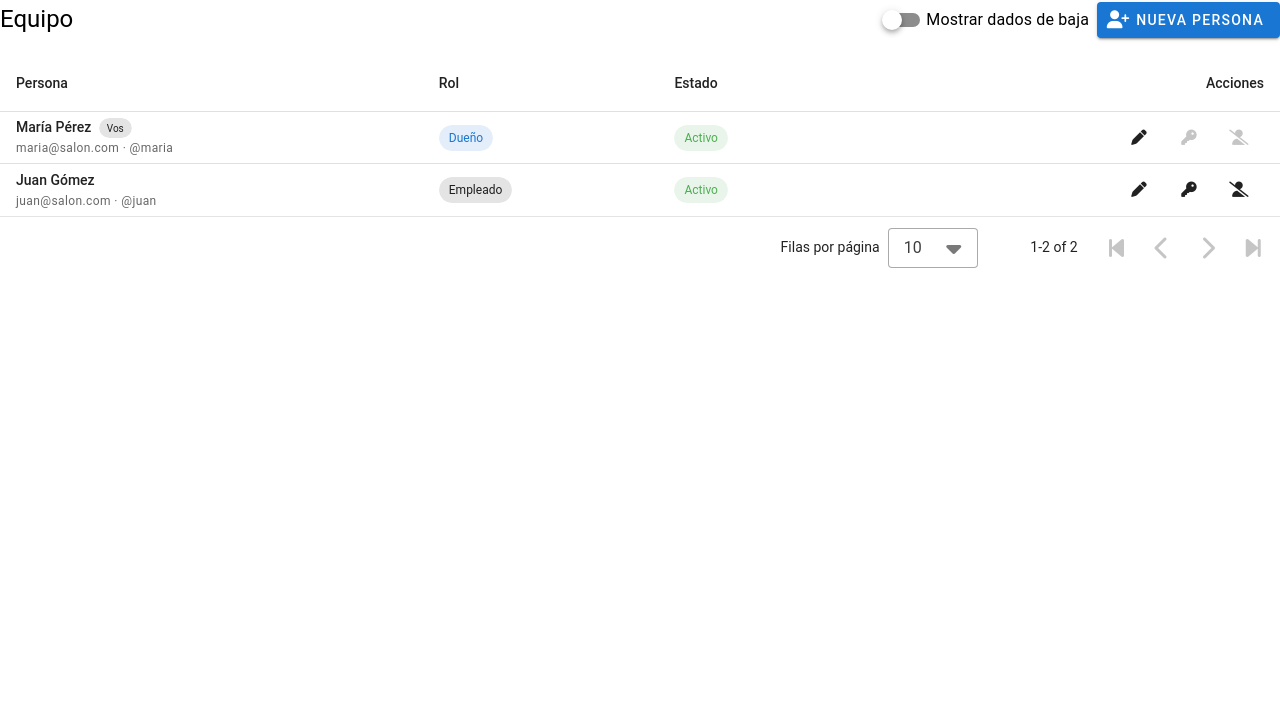
EquipoView › edición › un error de la API (p. ej. «debe conservar al menos un dueño») se muestra en el diálogo
Click the button named "Editar a Juan Gómez".
click(1139, 190)  # box 1114,176 -> 1164,204
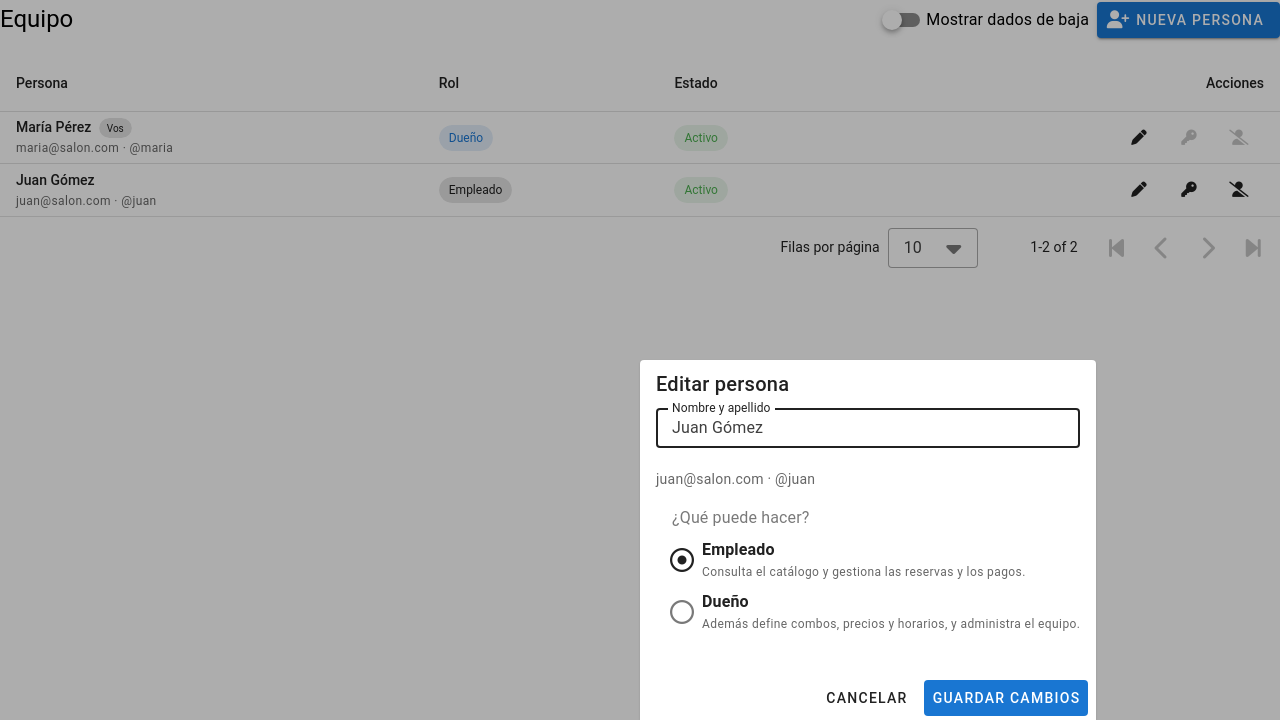
Replace the text in the field labelled "Nombre y apellido" with "Otro nombre" at {"x": 868, "y": 428}, box 656,408 -> 1080,448
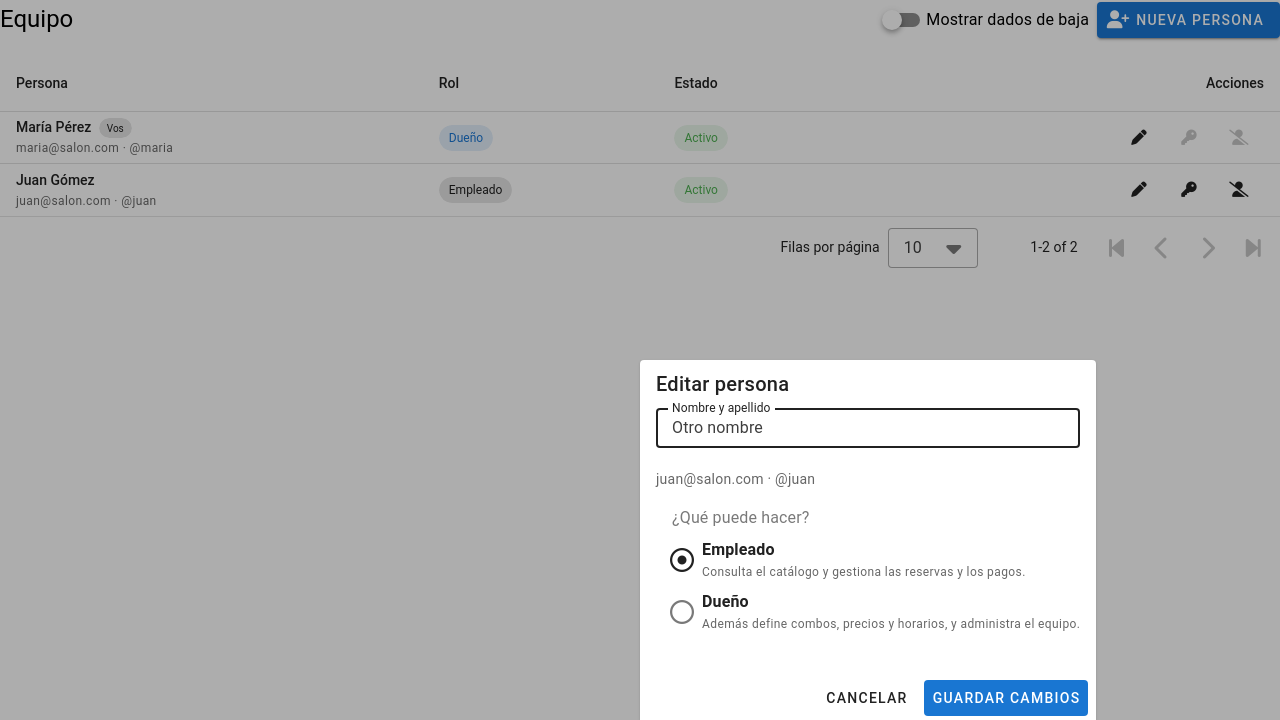
Result: the button "Guardar cambios" is shown
Click the button "Guardar cambios".
click(1006, 698)  # box 924,680 -> 1088,716
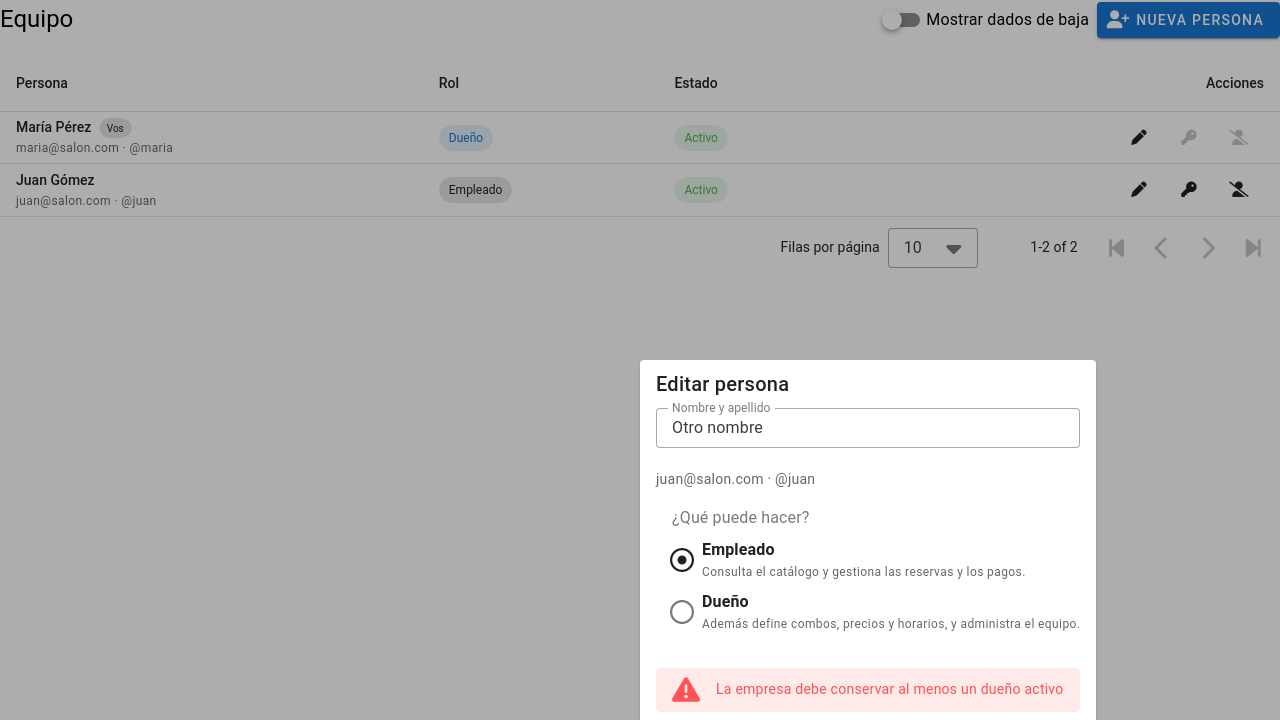
Result: the text "La empresa debe conservar al menos un dueño activo" is shown at 716,678 -> 1064,702
